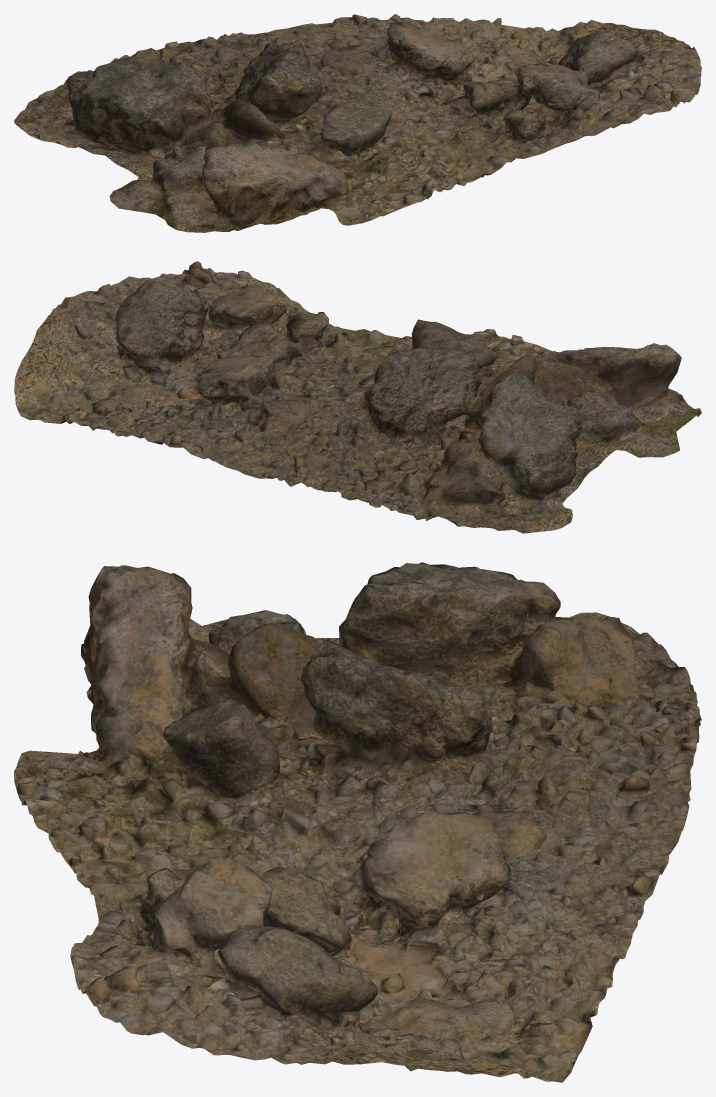
File: coast_land_rocks_03.glb
The picture shows the model from 3 angles, top to bottom: view 1: azimuth 30°, elevation 25°; view 2: azimuth 150°, elevation 25°; view 3: azimuth 270°, elevation 25°; orthographic projection. The views are drawn at different scales.
Visible parts, largest first — view 1: coast_land_rocks_03; view 2: coast_land_rocks_03; view 3: coast_land_rocks_03.
Boxes of the visible parts, box(x1,y1,x2,y2) form: coast_land_rocks_03: box(14, 14, 701, 232); coast_land_rocks_03: box(14, 261, 701, 533); coast_land_rocks_03: box(14, 562, 701, 1082).
Bounding box in the file's own units: 8.97 × 1.52 × 5.63.
Materials: 1 (1 with a texture image).
